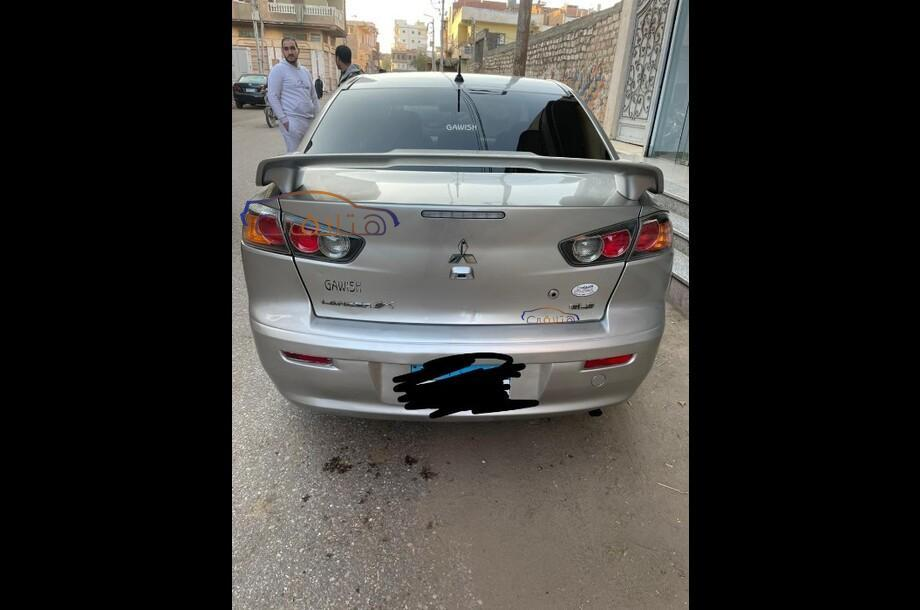Mitsubishi: (444, 232, 495, 272)
